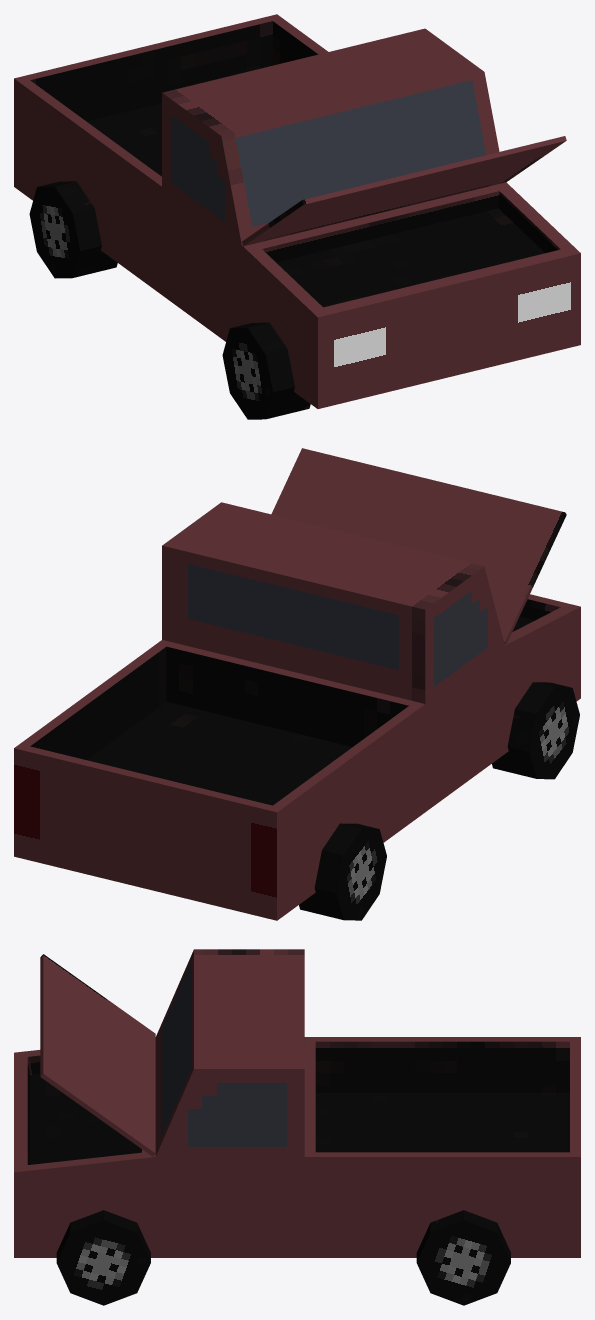
Rendered from SM_Truck.dae.
3 views of the same model, one above another, from view 1: azimuth 30°, elevation 25°; view 2: azimuth 150°, elevation 25°; view 3: azimuth 270°, elevation 25° (orthographic). The views are drawn at different scales.
Parts seen in each view (by area): view 1: Truck, TruckHood; view 2: Truck, TruckHood; view 3: Truck, TruckHood.
Part boxes in pixels (x1,y1,x2,y2): Truck: [14, 14, 580, 419]; TruckHood: [242, 136, 566, 246]; Truck: [14, 502, 580, 920]; TruckHood: [271, 448, 566, 644]; Truck: [14, 949, 580, 1305]; TruckHood: [40, 954, 155, 1156].
Size of the model in its own units: 3.5 by 6 by 2.65.
